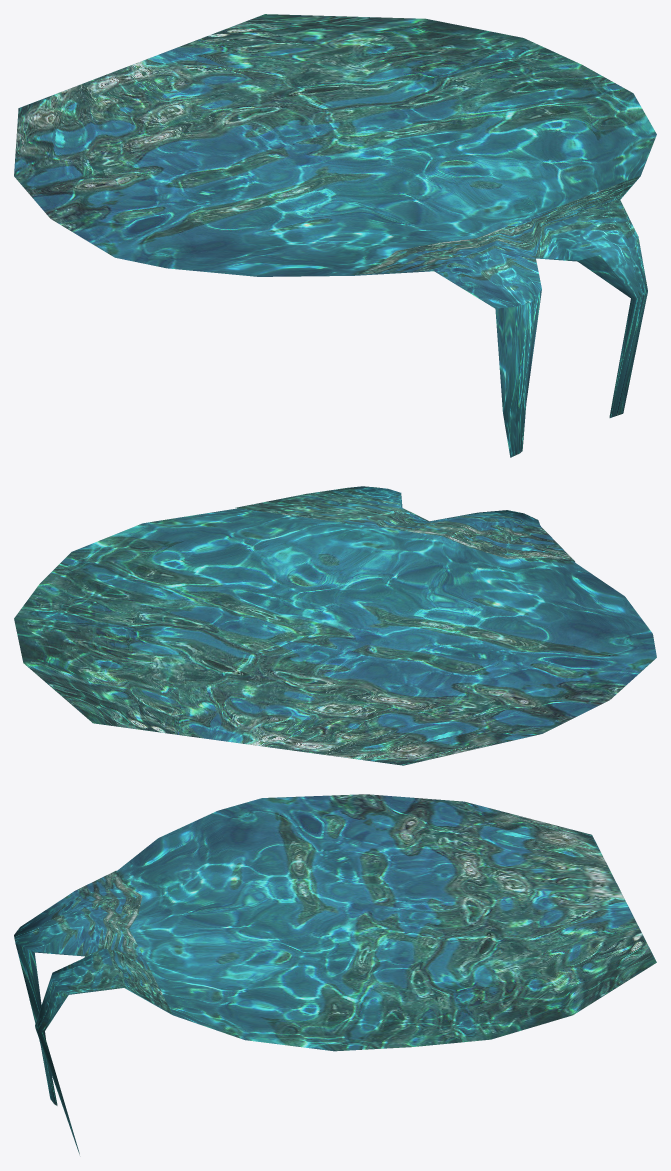
The model's file is Mine_shitou05shui1.FBX.
3 renders of one model, top to bottom at view 1: azimuth 30°, elevation 25°; view 2: azimuth 150°, elevation 25°; view 3: azimuth 270°, elevation 25°, orthographic. The views are drawn at different scales.
Visible parts, largest first — view 1: Plane005, Plane002; view 2: Plane005, Plane002; view 3: Plane005, Plane002.
Boxes of the visible parts, x1=… form: Plane005: x1=14, y1=14, x2=656, y2=457; Plane002: x1=354, y1=176, x2=647, y2=415; Plane005: x1=14, y1=508, x2=656, y2=765; Plane002: x1=235, y1=486, x2=574, y2=561; Plane005: x1=14, y1=794, x2=656, y2=1153; Plane002: x1=14, y1=870, x2=172, y2=1153.
Bounding box in the file's own units: 9879 × 3221 × 10442.
Materials: 1 (1 with a texture image).
